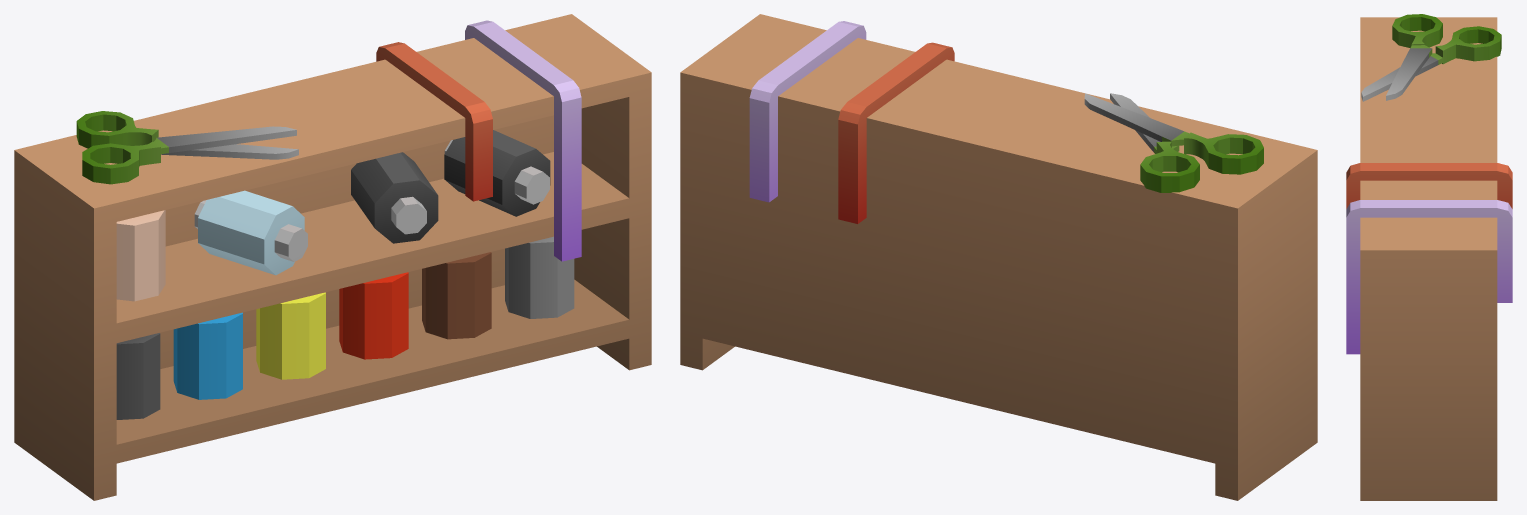
Rendered from shelf with cloth materials.fbx.
3 views of the same model, side by side, from view 1: azimuth 30°, elevation 25°; view 2: azimuth 150°, elevation 25°; view 3: azimuth 270°, elevation 25° (orthographic). The views are drawn at different scales.
Parts seen in each view (by area): view 1: shelf_with_cloth_materials; view 2: shelf_with_cloth_materials; view 3: shelf_with_cloth_materials.
Boxes of the visible parts, bbox=[...] form: shelf_with_cloth_materials: bbox=[14, 14, 651, 500]; shelf_with_cloth_materials: bbox=[680, 14, 1317, 500]; shelf_with_cloth_materials: bbox=[1346, 14, 1512, 500].
Size of the model in its own units: 399 by 211 by 120.
Materials: 1 (1 with a texture image).
